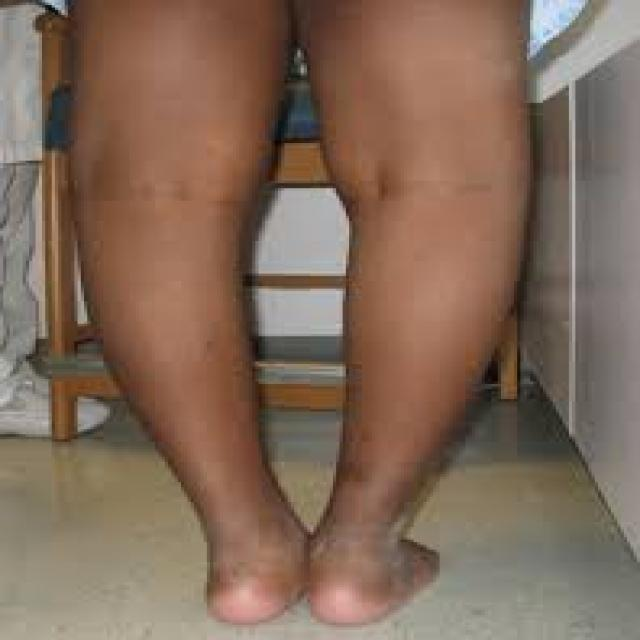Normal: (56, 69, 532, 463)
